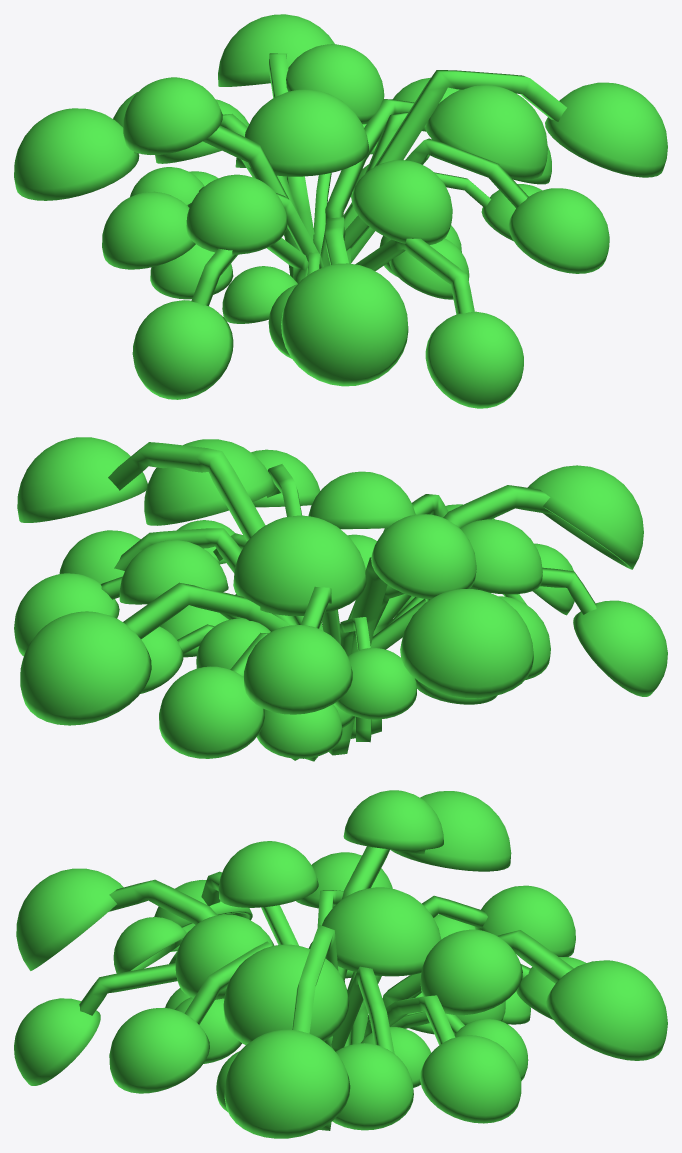
File: plant(1).fbx
The picture shows the model from 3 angles, top to bottom: view 1: azimuth 30°, elevation 25°; view 2: azimuth 150°, elevation 25°; view 3: azimuth 270°, elevation 25°; orthographic projection. The views are drawn at different scales.
Visible parts, largest first — view 1: plant; view 2: plant; view 3: plant.
Part boxes in pixels (<box>): plant: <box>14,14,667,408</box>; plant: <box>14,437,667,761</box>; plant: <box>14,790,667,1138</box>.
Size of the model in its own units: 40.44 by 18.57 by 41.15.
